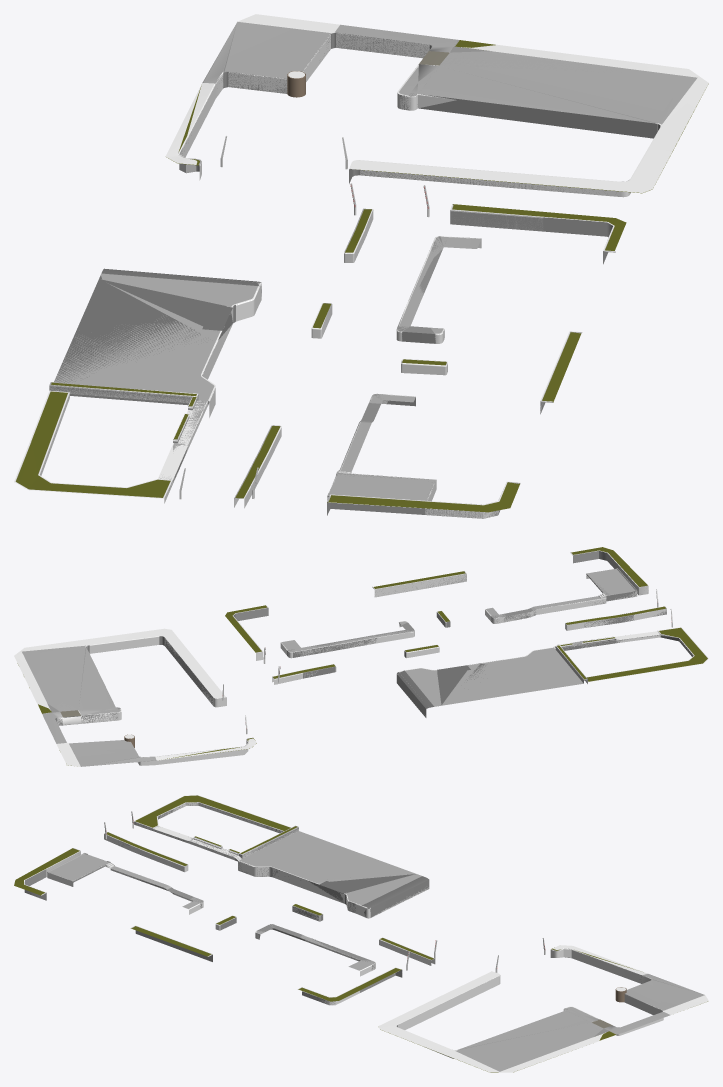
The model's file is s_movie_studio_flooring.dae.
3 renders of one model, top to bottom at view 1: azimuth 30°, elevation 25°; view 2: azimuth 150°, elevation 25°; view 3: azimuth 270°, elevation 25°, orthographic. The views are drawn at different scales.
Parts seen in each view (by area): view 1: Colmesh_s_moviestudio_flooring-1, s_moviestudio_flooring_L2000, s_moviestudio_flooring_L100; view 2: Colmesh_s_moviestudio_flooring-1, s_moviestudio_flooring_L2000, s_moviestudio_flooring_L100; view 3: Colmesh_s_moviestudio_flooring-1, s_moviestudio_flooring_L2000, s_moviestudio_flooring_L100.
Boxes of the visible parts, left/top/right/bottom form: Colmesh_s_moviestudio_flooring-1: left=14, top=14, right=708, bottom=518; s_moviestudio_flooring_L2000: left=40, top=21, right=697, bottom=518; s_moviestudio_flooring_L100: left=15, top=27, right=708, bottom=515; Colmesh_s_moviestudio_flooring-1: left=14, top=550, right=708, bottom=766; s_moviestudio_flooring_L2000: left=22, top=551, right=671, bottom=766; s_moviestudio_flooring_L100: left=17, top=547, right=707, bottom=765; Colmesh_s_moviestudio_flooring-1: left=24, top=795, right=708, bottom=1072; s_moviestudio_flooring_L2000: left=24, top=802, right=705, bottom=1071; s_moviestudio_flooring_L100: left=14, top=795, right=707, bottom=1072.
Bounding box in the file's own units: 174 × 191 × 13.48.
